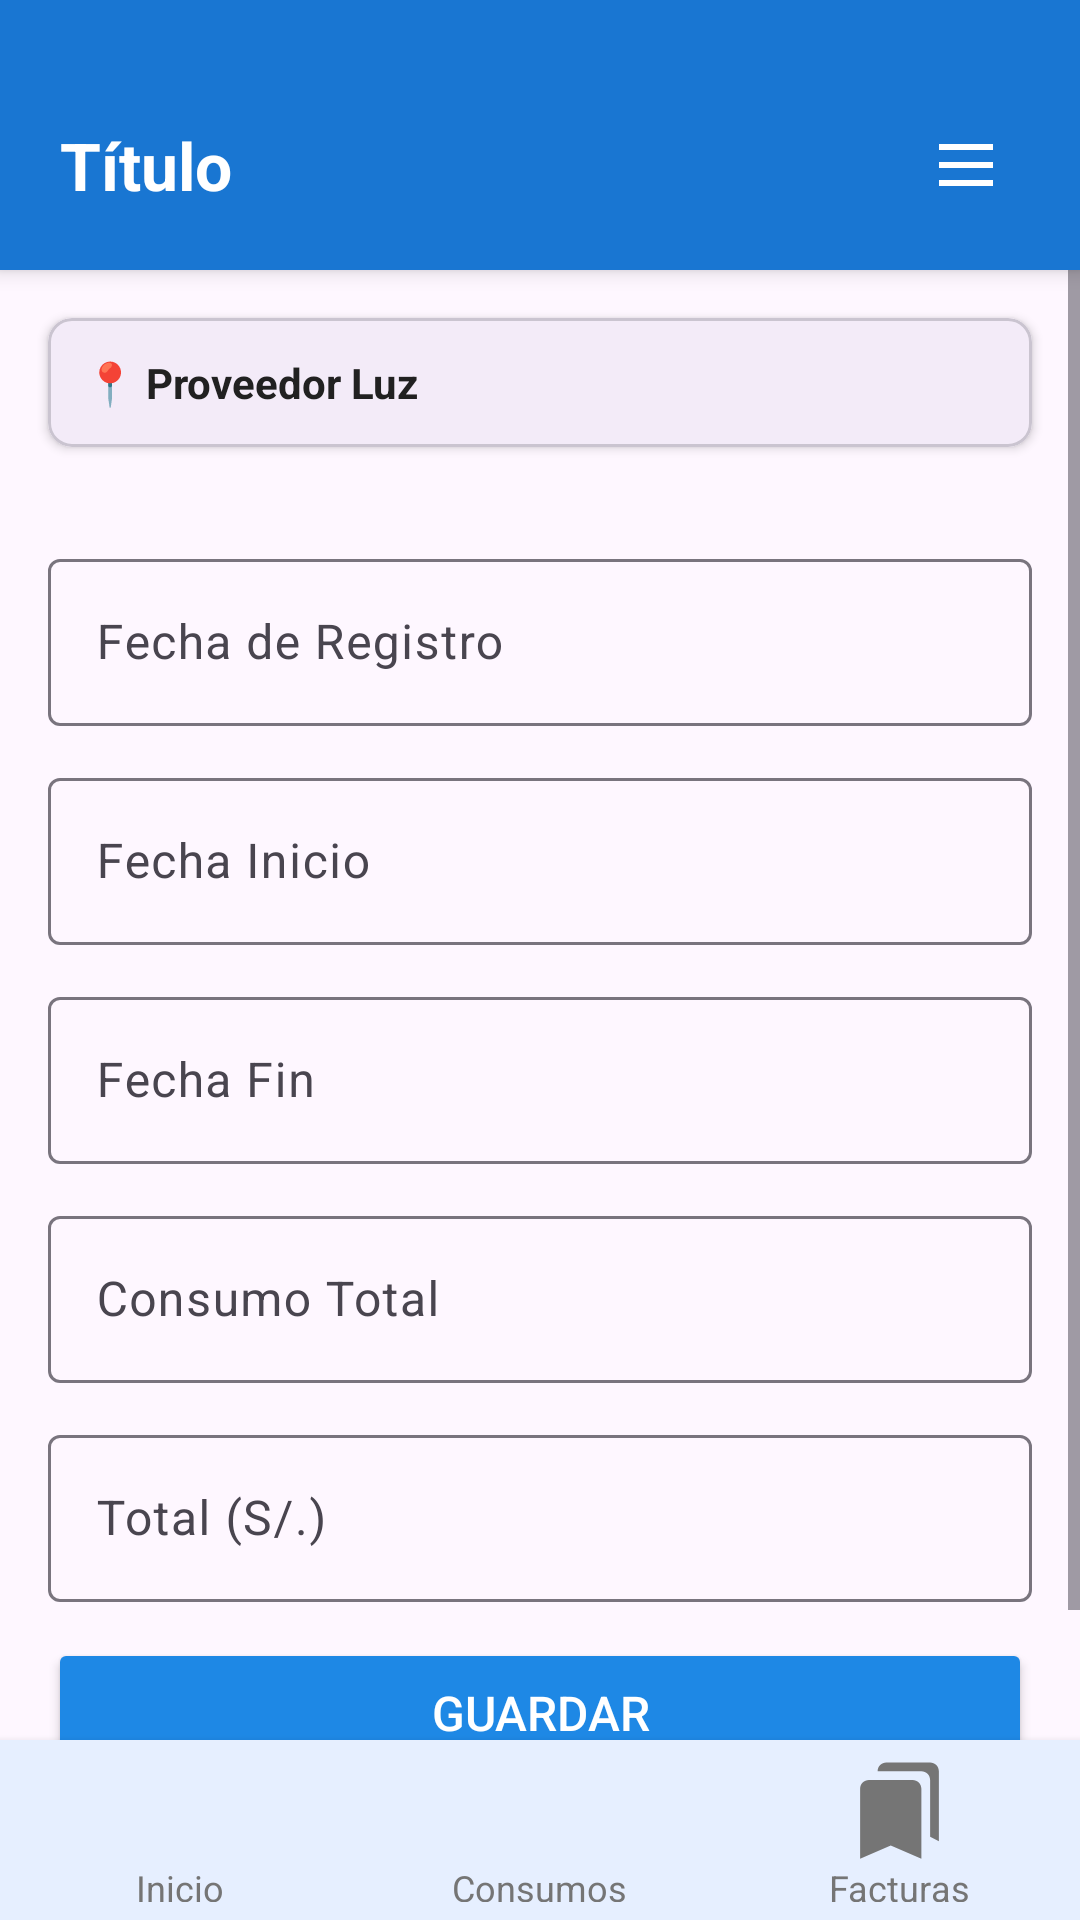

Locate icon controls on the screen. Image size 1080×1920, boxes as (x1, y1, x2, y2).
Menú principal: (939, 144, 993, 186)
